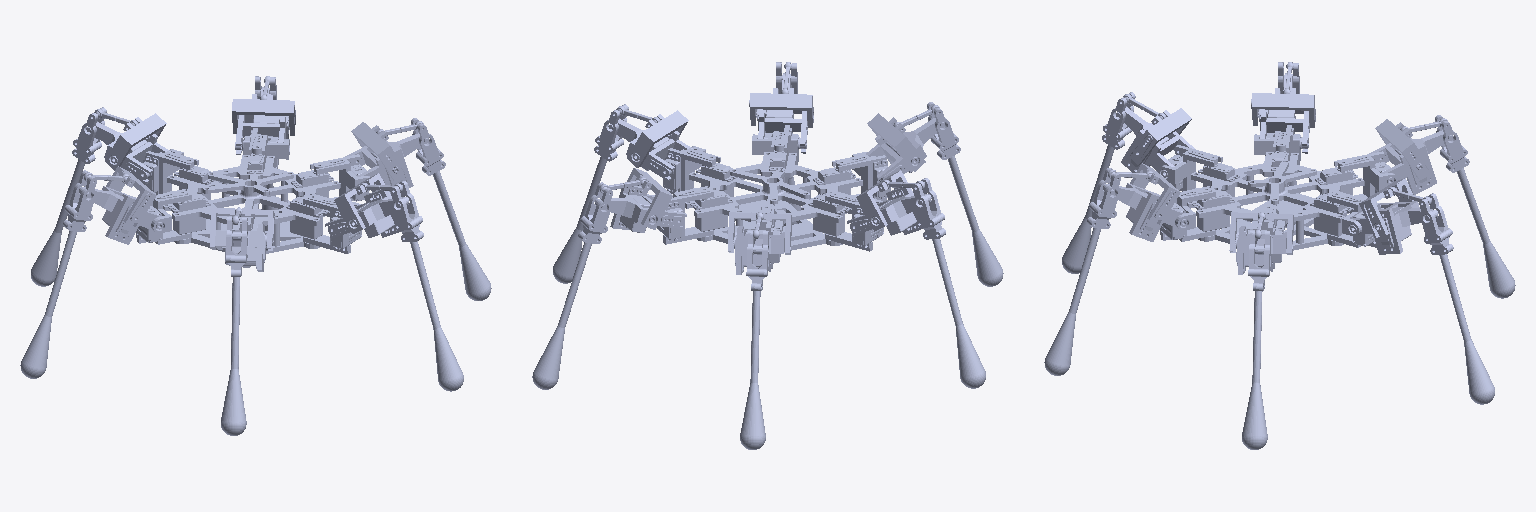
--- Facts derived from the render (not from the file) ---
3 views of the same robot in one strip: view 1: azimuth 30°, elevation 25°; view 2: azimuth 150°, elevation 25°; view 3: azimuth 270°, elevation 25° (orthographic).
Model body_description with 31 links and 30 joints (30 revolute), rooted at base_link, posed every joint at zero.
Visible links, largest first — view 1: base_link, leg6_right_leg_link2, leg4_right_leg_link2, leg5_right_leg_link2, leg1_left_leg_link2, leg3_left_leg_link2, leg6_right_leg_link1, leg4_right_leg_link1, leg3_left_leg_link1, leg1_left_leg_link1, leg4_right_leg_base_link, leg3_left_leg_base_link (+11 smaller); view 2: base_link, leg4_right_leg_link2, leg2_left_leg_link2, leg3_left_leg_link2, leg5_right_leg_link2, leg1_left_leg_link2, leg2_left_leg_link1, leg4_right_leg_link1, leg1_left_leg_link1, leg1_left_leg_base_link, leg5_right_leg_link1, leg6_right_leg_link3 (+11 smaller); view 3: base_link, leg2_left_leg_link2, leg6_right_leg_link2, leg1_left_leg_link2, leg3_left_leg_link2, leg5_right_leg_link2, leg2_left_leg_link1, leg6_right_leg_link1, leg3_left_leg_link1, leg5_right_leg_link1, leg6_right_leg_base_link, leg5_right_leg_base_link (+11 smaller).
Boxes of the visible links, x1=… form: base_link: x1=163, y1=153, x2=340, y2=253; leg6_right_leg_link2: x1=390, y1=181, x2=463, y2=391; leg4_right_leg_link2: x1=20, y1=170, x2=96, y2=378; leg5_right_leg_link2: x1=221, y1=216, x2=247, y2=435; leg1_left_leg_link2: x1=411, y1=118, x2=491, y2=300; leg3_left_leg_link2: x1=31, y1=107, x2=106, y2=286; leg6_right_leg_link1: x1=325, y1=191, x2=409, y2=238; leg4_right_leg_link1: x1=79, y1=186, x2=163, y2=244; leg3_left_leg_link1: x1=86, y1=121, x2=170, y2=183; leg1_left_leg_link1: x1=345, y1=133, x2=428, y2=193; leg4_right_leg_base_link: x1=136, y1=189, x2=191, y2=244; leg3_left_leg_base_link: x1=142, y1=149, x2=198, y2=194; base_link: x1=685, y1=150, x2=862, y2=250; leg4_right_leg_link2: x1=912, y1=178, x2=985, y2=388; leg2_left_leg_link2: x1=532, y1=182, x2=612, y2=389; leg3_left_leg_link2: x1=740, y1=230, x2=768, y2=449; leg5_right_leg_link2: x1=927, y1=102, x2=1003, y2=286; leg1_left_leg_link2: x1=553, y1=104, x2=628, y2=283; leg2_left_leg_link1: x1=595, y1=186, x2=686, y2=232; leg4_right_leg_link1: x1=847, y1=188, x2=931, y2=235; leg1_left_leg_link1: x1=608, y1=118, x2=692, y2=180; leg1_left_leg_base_link: x1=663, y1=146, x2=720, y2=193; leg5_right_leg_link1: x1=866, y1=117, x2=944, y2=180; leg6_right_leg_link3: x1=749, y1=88, x2=813, y2=127; base_link: x1=1187, y1=150, x2=1364, y2=250; leg2_left_leg_link2: x1=1419, y1=193, x2=1494, y2=404; leg6_right_leg_link2: x1=1044, y1=168, x2=1120, y2=375; leg1_left_leg_link2: x1=1242, y1=230, x2=1270, y2=449; leg3_left_leg_link2: x1=1435, y1=115, x2=1515, y2=298; leg5_right_leg_link2: x1=1062, y1=92, x2=1135, y2=273; leg2_left_leg_link1: x1=1350, y1=201, x2=1438, y2=254; leg6_right_leg_link1: x1=1103, y1=183, x2=1187, y2=241; leg3_left_leg_link1: x1=1369, y1=130, x2=1452, y2=194; leg5_right_leg_link1: x1=1116, y1=106, x2=1194, y2=177; leg6_right_leg_base_link: x1=1160, y1=186, x2=1215, y2=241; leg5_right_leg_base_link: x1=1158, y1=145, x2=1222, y2=191.
Size in the robot's own frame: 0.396 by 0.3599 by 0.1731 metres.
Meshes: 11 distinct files referenced, 31 mesh visuals loaded (11 binary STL).

URDF robot description (body_description):
<?xml version="1.0" ?>
<!-- =================================================================================== -->
<!-- |    This document was autogenerated by xacro from [local-path]/ros2_ws/src/body_description/urdf/body_description.xacro | -->
<!-- |    EDITING THIS FILE BY HAND IS NOT RECOMMENDED                                 | -->
<!-- =================================================================================== -->
<!-- This URDF was automatically created by SolidWorks to URDF Exporter! Originally created by Stephen Brawner ([email redacted]) 
     Commit Version: 1.6.0-4-g7f85cfe  Build Version: 1.6.7995.38578
     For more information, please see http://wiki.ros.org/sw_urdf_exporter -->
<robot name="body_description">
  <link name="base_link">
    <inertial>
  <!-- 质心位置：从毫米转为米（÷1000） -->
  <origin rpy="0 0 0" xyz="0 0 -0.01618"/>
  <!-- 质量：从克转为千克（÷1000） -->
  <mass value="0.42388"/>
  <!-- 惯性张量：原始单位 g·mm² 换算到 kg·m²（×1e-9） -->
  <inertia 
    ixx="0.00070777"   
    ixy="0.0000001126"
    ixz="0.00000001521"
    iyy="0.00069402"  
    iyz="-0.00000000761"
    izz="0.00111424"  
  />
</inertial>

    <visual>
      <origin rpy="0 0 0" xyz="0 0 0"/>
      <geometry>
        <mesh filename="package://body_description/meshes/base_link.STL"/>
      </geometry>
      <material name="">
        <color rgba="0.79216 0.81961 0.93333 1"/>
      </material>
    </visual>
    <collision>
      <origin rpy="0 0 0" xyz="0 0 0"/>
      <geometry>
        <mesh filename="package://body_description/meshes/base_link.STL"/>
      </geometry>
    </collision>
  </link>
  <link name="leg1_left_leg_base_link">
    <inertial>
      <origin rpy="0 0 0" xyz="0.022492 0.007129 -0.014892"/>
      <mass value="0.011294"/>
      <inertia ixx="1.7081E-06" ixy="8.3146E-08" ixz="-1.7531E-07" iyy="1.7861E-06" iyz="-1.213E-08" izz="1.1716E-06"/>
    </inertial>
    <visual>
      <origin rpy="0 0 0" xyz="0 0 0"/>
      <geometry>
        <mesh filename="package://body_description/meshes/left_leg_base_link.STL"/>
      </geometry>
      <material name="">
        <color rgba="0.79216 0.81961 0.93333 1"/>
      </material>
    </visual>
    <collision>
      <origin rpy="0 0 0" xyz="0 0 0"/>
      <geometry>
        <mesh filename="package://body_description/meshes/left_leg_base_link.STL"/>
      </geometry>
    </collision>
  </link>
  <link name="leg1_left_leg_link1">
    <inertial>
      <origin rpy="0 0 0" xyz="0.025933 0.0030528 -0.022581"/>
      <mass value="0.017021"/>
      <inertia ixx="2.0908E-06" ixy="1.3565E-08" ixz="-2.3118E-07" iyy="3.6034E-06" iyz="1.3164E-07" izz="2.9314E-06"/>
    </inertial>
    <visual>
      <origin rpy="0 0 0" xyz="0 0 0"/>
      <geometry>
        <mesh filename="package://body_description/meshes/left_leg_link1.STL"/>
      </geometry>
      <material name="">
        <color rgba="0.79216 0.81961 0.93333 1"/>
      </material>
    </visual>
    <collision>
      <origin rpy="0 0 0" xyz="0 0 0"/>
      <geometry>
        <mesh filename="package://body_description/meshes/left_leg_link1.STL"/>
      </geometry>
    </collision>
  </link>
  <joint name="leg1_left_leg_joint1" type="revolute">
    <origin rpy="-1.5708 -0.3068 0.34327" xyz="0.02198 0.027937 -0.00929"/>
    <parent link="leg1_left_leg_base_link"/>
    <child link="leg1_left_leg_link1"/>
    <axis xyz="0 0 1"/>
    <limit effort="100" lower="-3.14" upper="3.14" velocity="10"/>
  </joint>
  <link name="leg1_left_leg_link2">
    <inertial>
      <origin rpy="0 0 0" xyz="0.089594 -7.9936E-15 -0.018644"/>
      <mass value="0.014281"/>
      <inertia ixx="3.6992E-07" ixy="5.4925E-22" ixz="8.5365E-22" iyy="5.5689E-06" iyz="8.4703E-22" izz="5.6129E-06"/>
    </inertial>
    <visual>
      <origin rpy="0 0 0" xyz="0 0 0"/>
      <geometry>
        <mesh filename="package://body_description/meshes/left_leg_link2.STL"/>
      </geometry>
      <material name="">
        <color rgba="0.79216 0.81961 0.93333 1"/>
      </material>
    </visual>
    <collision>
      <origin rpy="0 0 0" xyz="0 0 0"/>
      <geometry>
        <mesh filename="package://body_description/meshes/left_leg_link2.STL"/>
      </geometry>
    </collision>
  </link>
  <joint name="leg1_left_leg_joint2" type="revolute">
    <origin rpy="0 0 1.5481" xyz="0.061 0 0"/>
    <parent link="leg1_left_leg_link1"/>
    <child link="leg1_left_leg_link2"/>
    <axis xyz="0 0 1"/>
    <limit effort="100" lower="-3.14" upper="3.14" velocity="10"/>
    <mimic joint="leg1_left_leg_joint3" multiplier="-1"/>
  </joint>
  <link name="leg1_left_leg_link3">
    <inertial>
      <origin rpy="0 0 0" xyz="0.0004307 -0.015395 -0.01826"/>
      <mass value="0.0042639"/>
      <inertia ixx="1.5353E-06" ixy="8.5323E-09" ixz="8.9451E-10" iyy="1.3235E-06" iyz="-7.4296E-08" izz="3.5073E-07"/>
    </inertial>
    <visual>
      <origin rpy="0 0 0" xyz="0 0 0"/>
      <geometry>
        <mesh filename="package://body_description/meshes/left_leg_link3.STL"/>
      </geometry>
      <material name="">
        <color rgba="0.79216 0.81961 0.93333 1"/>
      </material>
    </visual>
    <collision>
      <origin rpy="0 0 0" xyz="0 0 0"/>
      <geometry>
        <mesh filename="package://body_description/meshes/left_leg_link3.STL"/>
      </geometry>
    </collision>
  </link>
  <joint name="leg1_left_leg_joint3" type="revolute">
    <origin rpy="0 0 -0.21172" xyz="0.0255 0 0"/>
    <parent link="leg1_left_leg_link1"/>
    <child link="leg1_left_leg_link3"/>
    <axis xyz="0 0 -1"/>
    <limit effort="100" lower="-3.14" upper="3.14" velocity="10"/>
  </joint>
  <link name="leg1_left_leg_link4">
    <inertial>
      <origin rpy="0 0 0" xyz="0.016434 1.8077E-12 -0.019911"/>
      <mass value="0.00053747"/>
      <inertia ixx="1.8438E-09" ixy="4.6176E-20" ixz="-8.7449E-13" iyy="4.7249E-09" iyz="-1.8552E-20" izz="5.3635E-09"/>
    </inertial>
    <visual>
      <origin rpy="0 0 0" xyz="0 0 0"/>
      <geometry>
        <mesh filename="package://body_description/meshes/left_leg_link4.STL"/>
      </geometry>
      <material name="">
        <color rgba="0.79216 0.81961 0.93333 1"/>
      </material>
    </visual>
    <collision>
      <origin rpy="0 0 0" xyz="0 0 0"/>
      <geometry>
        <mesh filename="package://body_description/meshes/left_leg_link4.STL"/>
      </geometry>
    </collision>
  </link>
  <joint name="leg1_left_leg_joint4" type="revolute">
    <origin rpy="0 0.0092257 0.50332" xyz="0.0084934 -0.020001 0"/>
    <parent link="leg1_left_leg_link3"/>
    <child link="leg1_left_leg_link4"/>
    <axis xyz="0 0 -1"/>
    <limit effort="100" lower="-3.14" upper="3.14" velocity="10"/>
    <mimic joint="leg1_left_leg_joint3" multiplier="-1"/>
  </joint>
  <joint name="leg1_joint" type="revolute">
    <origin rpy="0 0 -0.423478" xyz="0.057411 -0.004797 0"/>
    <parent link="base_link"/>
    <child link="leg1_left_leg_base_link"/>
    <axis xyz="0 0 1"/>
    <limit effort="100" lower="-3.14" upper="3.14" velocity="10"/>
  </joint>
  <link name="leg2_left_leg_base_link">
    <inertial>
      <origin rpy="0 0 0" xyz="0.022492 0.007129 -0.014892"/>
      <mass value="0.011294"/>
      <inertia ixx="1.7081E-06" ixy="8.3146E-08" ixz="-1.7531E-07" iyy="1.7861E-06" iyz="-1.213E-08" izz="1.1716E-06"/>
    </inertial>
    <visual>
      <origin rpy="0 0 0" xyz="0 0 0"/>
      <geometry>
        <mesh filename="package://body_description/meshes/left_leg_base_link.STL"/>
      </geometry>
      <material name="">
        <color rgba="0.79216 0.81961 0.93333 1"/>
      </material>
    </visual>
    <collision>
      <origin rpy="0 0 0" xyz="0 0 0"/>
      <geometry>
        <mesh filename="package://body_description/meshes/left_leg_base_link.STL"/>
      </geometry>
    </collision>
  </link>
  <link name="leg2_left_leg_link1">
    <inertial>
      <origin rpy="0 0 0" xyz="0.025933 0.0030528 -0.022581"/>
      <mass value="0.017021"/>
      <inertia ixx="2.0908E-06" ixy="1.3565E-08" ixz="-2.3118E-07" iyy="3.6034E-06" iyz="1.3164E-07" izz="2.9314E-06"/>
    </inertial>
    <visual>
      <origin rpy="0 0 0" xyz="0 0 0"/>
      <geometry>
        <mesh filename="package://body_description/meshes/left_leg_link1.STL"/>
      </geometry>
      <material name="">
        <color rgba="0.79216 0.81961 0.93333 1"/>
      </material>
    </visual>
    <collision>
      <origin rpy="0 0 0" xyz="0 0 0"/>
      <geometry>
        <mesh filename="package://body_description/meshes/left_leg_link1.STL"/>
      </geometry>
    </collision>
  </link>
  <joint name="leg2_left_leg_joint1" type="revolute">
    <origin rpy="-1.5708 -0.3068 0.34327" xyz="0.02198 0.027937 -0.00929"/>
    <parent link="leg2_left_leg_base_link"/>
    <child link="leg2_left_leg_link1"/>
    <axis xyz="0 0 1"/>
    <limit effort="100" lower="-3.14" upper="3.14" velocity="10"/>
  </joint>
  <link name="leg2_left_leg_link2">
    <inertial>
      <origin rpy="0 0 0" xyz="0.089594 -7.9936E-15 -0.018644"/>
      <mass value="0.014281"/>
      <inertia ixx="3.6992E-07" ixy="5.4925E-22" ixz="8.5365E-22" iyy="5.5689E-06" iyz="8.4703E-22" izz="5.6129E-06"/>
    </inertial>
    <visual>
      <origin rpy="0 0 0" xyz="0 0 0"/>
      <geometry>
        <mesh filename="package://body_description/meshes/left_leg_link2.STL"/>
      </geometry>
      <material name="">
        <color rgba="0.79216 0.81961 0.93333 1"/>
      </material>
    </visual>
    <collision>
      <origin rpy="0 0 0" xyz="0 0 0"/>
      <geometry>
        <mesh filename="package://body_description/meshes/left_leg_link2.STL"/>
      </geometry>
    </collision>
  </link>
  <joint name="leg2_left_leg_joint2" type="revolute">
    <origin rpy="0 0 1.5481" xyz="0.061 0 0"/>
    <parent link="leg2_left_leg_link1"/>
    <child link="leg2_left_leg_link2"/>
    <axis xyz="0 0 1"/>
    <limit effort="100" lower="-3.14" upper="3.14" velocity="10"/>
    <mimic joint="leg2_left_leg_joint3" multiplier="-1"/>
  </joint>
  <link name="leg2_left_leg_link3">
    <inertial>
      <origin rpy="0 0 0" xyz="0.0004307 -0.015395 -0.01826"/>
      <mass value="0.0042639"/>
      <inertia ixx="1.5353E-06" ixy="8.5323E-09" ixz="8.9451E-10" iyy="1.3235E-06" iyz="-7.4296E-08" izz="3.5073E-07"/>
    </inertial>
    <visual>
      <origin rpy="0 0 0" xyz="0 0 0"/>
      <geometry>
        <mesh filename="package://body_description/meshes/left_leg_link3.STL"/>
      </geometry>
      <material name="">
        <color rgba="0.79216 0.81961 0.93333 1"/>
      </material>
    </visual>
    <collision>
      <origin rpy="0 0 0" xyz="0 0 0"/>
      <geometry>
        <mesh filename="package://body_description/meshes/left_leg_link3.STL"/>
      </geometry>
    </collision>
  </link>
  <joint name="leg2_left_leg_joint3" type="revolute">
    <origin rpy="0 0 -0.21172" xyz="0.0255 0 0"/>
    <parent link="leg2_left_leg_link1"/>
    <child link="leg2_left_leg_link3"/>
    <axis xyz="0 0 -1"/>
    <limit effort="100" lower="-3.14" upper="3.14" velocity="10"/>
  </joint>
  <link name="leg2_left_leg_link4">
    <inertial>
      <origin rpy="0 0 0" xyz="0.016434 1.8077E-12 -0.019911"/>
      <mass value="0.00053747"/>
      <inertia ixx="1.8438E-09" ixy="4.6176E-20" ixz="-8.7449E-13" iyy="4.7249E-09" iyz="-1.8552E-20" izz="5.3635E-09"/>
    </inertial>
    <visual>
      <origin rpy="0 0 0" xyz="0 0 0"/>
      <geometry>
        <mesh filename="package://body_description/meshes/left_leg_link4.STL"/>
      </geometry>
      <material name="">
        <color rgba="0.79216 0.81961 0.93333 1"/>
      </material>
    </visual>
    <collision>
      <origin rpy="0 0 0" xyz="0 0 0"/>
      <geometry>
        <mesh filename="package://body_description/meshes/left_leg_link4.STL"/>
      </geometry>
    </collision>
  </link>
  <joint name="leg2_left_leg_joint4" type="revolute">
    <origin rpy="0 0.0092257 0.50332" xyz="0.0084934 -0.020001 0"/>
    <parent link="leg2_left_leg_link3"/>
    <child link="leg2_left_leg_link4"/>
    <axis xyz="0 0 -1"/>
    <limit effort="100" lower="-3.14" upper="3.14" velocity="10"/>
    <mimic joint="leg2_left_leg_joint3" multiplier="-1"/>
  </joint>
  <joint name="leg2_joint" type="revolute">
    <origin rpy="0 0 0.62372" xyz="0.03286 0.047321 0"/>
    <parent link="base_link"/>
    <child link="leg2_left_leg_base_link"/>
    <axis xyz="0 0 1"/>
    <limit effort="100" lower="-3.14" upper="3.14" velocity="10"/>
  </joint>
  <link name="leg3_left_leg_base_link">
    <inertial>
      <origin rpy="0 0 0" xyz="0.022492 0.007129 -0.014892"/>
      <mass value="0.011294"/>
      <inertia ixx="1.7081E-06" ixy="8.3146E-08" ixz="-1.7531E-07" iyy="1.7861E-06" iyz="-1.213E-08" izz="1.1716E-06"/>
    </inertial>
    <visual>
      <origin rpy="0 0 0" xyz="0 0 0"/>
      <geometry>
        <mesh filename="package://body_description/meshes/left_leg_base_link.STL"/>
      </geometry>
      <material name="">
        <color rgba="0.79216 0.81961 0.93333 1"/>
      </material>
    </visual>
    <collision>
      <origin rpy="0 0 0" xyz="0 0 0"/>
      <geometry>
        <mesh filename="package://body_description/meshes/left_leg_base_link.STL"/>
      </geometry>
    </collision>
  </link>
  <link name="leg3_left_leg_link1">
    <inertial>
      <origin rpy="0 0 0" xyz="0.025933 0.0030528 -0.022581"/>
      <mass value="0.017021"/>
      <inertia ixx="2.0908E-06" ixy="1.3565E-08" ixz="-2.3118E-07" iyy="3.6034E-06" iyz="1.3164E-07" izz="2.9314E-06"/>
    </inertial>
    <visual>
      <origin rpy="0 0 0" xyz="0 0 0"/>
      <geometry>
        <mesh filename="package://body_description/meshes/left_leg_link1.STL"/>
      </geometry>
      <material name="">
        <color rgba="0.79216 0.81961 0.93333 1"/>
      </material>
    </visual>
    <collision>
      <origin rpy="0 0 0" xyz="0 0 0"/>
      <geometry>
        <mesh filename="package://body_description/meshes/left_leg_link1.STL"/>
      </geometry>
    </collision>
  </link>
  <joint name="leg3_left_leg_joint1" type="revolute">
    <origin rpy="-1.5708 -0.3068 0.34327" xyz="0.02198 0.027937 -0.00929"/>
    <parent link="leg3_left_leg_base_link"/>
    <child link="leg3_left_leg_link1"/>
    <axis xyz="0 0 1"/>
    <limit effort="100" lower="-3.14" upper="3.14" velocity="10"/>
  </joint>
  <link name="leg3_left_leg_link2">
    <inertial>
      <origin rpy="0 0 0" xyz="0.089594 -7.9936E-15 -0.018644"/>
      <mass value="0.014281"/>
      <inertia ixx="3.6992E-07" ixy="5.4925E-22" ixz="8.5365E-22" iyy="5.5689E-06" iyz="8.4703E-22" izz="5.6129E-06"/>
    </inertial>
    <visual>
      <origin rpy="0 0 0" xyz="0 0 0"/>
      <geometry>
        <mesh filename="package://body_description/meshes/left_leg_link2.STL"/>
      </geometry>
      <material name="">
        <color rgba="0.79216 0.81961 0.93333 1"/>
      </material>
    </visual>
    <collision>
      <origin rpy="0 0 0" xyz="0 0 0"/>
      <geometry>
        <mesh filename="package://body_description/meshes/left_leg_link2.STL"/>
      </geometry>
    </collision>
  </link>
  <joint name="leg3_left_leg_joint2" type="revolute">
    <origin rpy="0 0 1.5481" xyz="0.061 0 0"/>
    <parent link="leg3_left_leg_link1"/>
    <child link="leg3_left_leg_link2"/>
    <axis xyz="0 0 1"/>
    <limit effort="100" lower="-3.14" upper="3.14" velocity="10"/>
    <mimic joint="leg3_left_leg_joint3" multiplier="-1"/>
  </joint>
  <link name="leg3_left_leg_link3">
    <inertial>
      <origin rpy="0 0 0" xyz="0.0004307 -0.015395 -0.01826"/>
      <mass value="0.0042639"/>
      <inertia ixx="1.5353E-06" ixy="8.5323E-09" ixz="8.9451E-10" iyy="1.3235E-06" iyz="-7.4296E-08" izz="3.5073E-07"/>
    </inertial>
    <visual>
      <origin rpy="0 0 0" xyz="0 0 0"/>
      <geometry>
        <mesh filename="package://body_description/meshes/left_leg_link3.STL"/>
      </geometry>
      <material name="">
        <color rgba="0.79216 0.81961 0.93333 1"/>
      </material>
    </visual>
    <collision>
      <origin rpy="0 0 0" xyz="0 0 0"/>
      <geometry>
        <mesh filename="package://body_description/meshes/left_leg_link3.STL"/>
      </geometry>
    </collision>
  </link>
  <joint name="leg3_left_leg_joint3" type="revolute">
    <origin rpy="0 0 -0.21172" xyz="0.0255 0 0"/>
    <parent link="leg3_left_leg_link1"/>
    <child link="leg3_left_leg_link3"/>
    <axis xyz="0 0 -1"/>
    <limit effort="100" lower="-3.14" upper="3.14" velocity="10"/>
  </joint>
  <link name="leg3_left_leg_link4">
    <inertial>
      <origin rpy="0 0 0" xyz="0.016434 1.8077E-12 -0.019911"/>
      <mass value="0.00053747"/>
      <inertia ixx="1.8438E-09" ixy="4.6176E-20" ixz="-8.7449E-13" iyy="4.7249E-09" iyz="-1.8552E-20" izz="5.3635E-09"/>
    </inertial>
    <visual>
      <origin rpy="0 0 0" xyz="0 0 0"/>
      <geometry>
        <mesh filename="package://body_description/meshes/left_leg_link4.STL"/>
      </geometry>
      <material name="">
        <color rgba="0.79216 0.81961 0.93333 1"/>
      </material>
    </visual>
    <collision>
      <origin rpy="0 0 0" xyz="0 0 0"/>
      <geometry>
        <mesh filename="package://body_description/meshes/left_leg_link4.STL"/>
      </geometry>
    </collision>
  </link>
  <joint name="leg3_left_leg_joint4" type="revolute">
    <origin rpy="0 0.0092257 0.50332" xyz="0.0084934 -0.020001 0"/>
    <parent link="leg3_left_leg_link3"/>
    <child link="leg3_left_leg_link4"/>
    <axis xyz="0 0 -1"/>
    <limit effort="100" lower="-3.14" upper="3.14" velocity="10"/>
    <mimic joint="leg3_left_leg_joint3" multiplier="-1"/>
  </joint>
  <joint name="leg3_joint" type="revolute">
    <origin rpy="0 0 1.6709" xyz="-0.024551 0.052118 0"/>
    <parent link="base_link"/>
    <child link="leg3_left_leg_base_link"/>
    <axis xyz="0 0 1"/>
    <limit effort="100" lower="-3.14" upper="3.14" velocity="10"/>
  </joint>
  <link name="leg4_right_leg_base_link">
    <inertial>
      <origin rpy="0 0 0" xyz="0.021397 0.0099443 -0.014892"/>
      <mass value="0.011294"/>
      <inertia ixx="1.8266E-06" ixy="-4.6095E-08" ixz="-1.3742E-07" iyy="1.6677E-06" iyz="-1.0952E-07" izz="1.1716E-06"/>
    </inertial>
    <visual>
      <origin rpy="0 0 0" xyz="0 0 0"/>
      <geometry>
        <mesh filename="package://body_description/meshes/right_leg_base_link.STL"/>
      </geometry>
      <material name="">
        <color rgba="0.79216 0.81961 0.93333 1"/>
      </material>
    </visual>
    <collision>
      <origin rpy="0 0 0" xyz="0 0 0"/>
      <geometry>
        <mesh filename="package://body_description/meshes/right_leg_base_link.STL"/>
      </geometry>
    </collision>
  </link>
  <link name="leg4_right_leg_link1">
    <inertial>
      <origin rpy="0 0 0" xyz="0.025933 -0.0030528 -0.022581"/>
      <mass value="0.017021"/>
      <inertia ixx="2.0908E-06" ixy="-1.3565E-08" ixz="-2.3118E-07" iyy="3.6034E-06" iyz="-1.3164E-07" izz="2.9314E-06"/>
    </inertial>
    <visual>
      <origin rpy="0 0 0" xyz="0 0 0"/>
      <geometry>
        <mesh filename="package://body_description/meshes/right_leg_link1.STL"/>
      </geometry>
      <material name="">
        <color rgba="0.79216 0.81961 0.93333 1"/>
      </material>
    </visual>
    <collision>
      <origin rpy="0 0 0" xyz="0 0 0"/>
      <geometry>
        <mesh filename="package://body_description/meshes/right_leg_link1.STL"/>
      </geometry>
    </collision>
  </link>
  <joint name="leg4_right_leg_joint1" type="revolute">
    <origin rpy="1.5708 -0.51606 0.39873" xyz="0.035081 -0.0057403 -0.00929"/>
    <parent link="leg4_right_leg_base_link"/>
    <child link="leg4_right_leg_link1"/>
    <axis xyz="0 0 1"/>
    <limit effort="100" lower="-3.14" upper="3.14" velocity="10"/>
  </joint>
  <link name="leg4_right_leg_link2">
    <inertial>
      <origin rpy="0 0 0" xyz="0.089594 -6.8001E-15 -0.018644"/>
      <mass value="0.014281"/>
      <inertia ixx="3.6992E-07" ixy="1.0965E-19" ixz="2.2466E-21" iyy="5.5689E-06" iyz="0" izz="5.6129E-06"/>
    </inertial>
    <visual>
      <origin rpy="0 0 0" xyz="0 0 0"/>
      <geometry>
        <mesh filename="package://body_description/meshes/right_leg_link2.STL"/>
      </geometry>
      <material name="">
        <color rgba="0.79216 0.81961 0.93333 1"/>
      </material>
    </visual>
    <collision>
      <origin rpy="0 0 0" xyz="0 0 0"/>
      <geometry>
        <mesh filename="package://body_description/meshes/right_leg_link2.STL"/>
      </geometry>
    </collision>
  </link>
  <joint name="leg4_right_leg_joint2" type="revolute">
    <origin rpy="0 0 -1.7773" xyz="0.061 0 0"/>
    <parent link="leg4_right_leg_link1"/>
    <child link="leg4_right_leg_link2"/>
    <axis xyz="0 0 1"/>
    <limit effort="100" lower="-3.14" upper="3.14" velocity="10"/>
    <mimic joint="leg4_right_leg_joint3" multiplier="-1"/>
  </joint>
  <link name="leg4_right_leg_link3">
    <inertial>
      <origin rpy="0 0 0" xyz="0.00040437 0.014672 -0.020116"/>
      <mass value="0.0046109"/>
      <inertia ixx="1.552E-06" ixy="-8.5323E-09" ixz="8.9451E-10" iyy="1.3255E-06" iyz="7.5364E-08" izz="3.6852E-07"/>
    </inertial>
    <visual>
      <origin rpy="0 0 0" xyz="0 0 0"/>
      <geometry>
        <mesh filename="package://body_description/meshes/right_leg_link3.STL"/>
      </geometry>
      <material name="">
        <color rgba="0.79216 0.81961 0.93333 1"/>
      </material>
    </visual>
    <collision>
      <origin rpy="0 0 0" xyz="0 0 0"/>
      <geometry>
        <mesh filename="package://body_description/meshes/right_leg_link3.STL"/>
      </geometry>
    </collision>
  </link>
  <joint name="leg4_right_leg_joint3" type="revolute">
    <origin rpy="0 0 0.088197" xyz="0.025507 0 0"/>
    <parent link="leg4_right_leg_link1"/>
    <child link="leg4_right_leg_link3"/>
    <axis xyz="0 0 -1"/>
    <limit effort="100" lower="-3.14" upper="3.14" velocity="10"/>
  </joint>
  <link name="leg4_right_leg_link4">
    <inertial>
      <origin rpy="0 0 0" xyz="0.015829 0.00093361 -0.0068248"/>
      <mass value="0.00053747"/>
      <inertia ixx="1.8438E-09" ixy="-4.6086E-19" ixz="8.7449E-13" iyy="4.7249E-09" iyz="-3.9428E-20" izz="5.3635E-09"/>
    </inertial>
    <visual>
      <origin rpy="0 0 0" xyz="0 0 0"/>
      <geometry>
        <mesh filename="package://body_description/meshes/right_leg_link4.STL"/>
      </geometry>
      <material name="">
        <color rgba="0.79216 0.81961 0.93333 1"/>
      </material>
    </visual>
    <collision>
      <origin rpy="0 0 0" xyz="0 0 0"/>
      <geometry>
        <mesh filename="package://body_description/meshes/right_leg_link4.STL"/>
      </geometry>
    </collision>
  </link>
  <joint name="leg4_right_leg_joint4" type="revolute">
    <origin rpy="0 -0.0092257 -0.36643" xyz="0.0085 0.019 -0.01074"/>
    <parent link="leg4_right_leg_link3"/>
    <child link="leg4_right_leg_link4"/>
    <axis xyz="-0.0092256 0 -0.99996"/>
    <limit effort="100" lower="-3.14" upper="3.14" velocity="10"/>
    <mimic joint="leg4_right_leg_joint3" multiplier="-1"/>
  </joint>
  <joint name="leg4_joint" type="revolute">
    <origin rpy="0 0 2.6781" xyz="-0.057411 0.004797 0"/>
    <parent link="base_link"/>
    <child link="leg4_right_leg_base_link"/>
    <axis xyz="0 0 1"/>
    <limit effort="100" lower="-3.14" upper="3.14" velocity="10"/>
  </joint>
  <link name="leg5_right_leg_base_link">
    <inertial>
      <origin rpy="0 0 0" xyz="0.021397 0.0099443 -0.014892"/>
      <mass value="0.011294"/>
      <inertia ixx="1.8266E-06" ixy="-4.6095E-08" ixz="-1.3742E-07" iyy="1.6677E-06" iyz="-1.0952E-07" izz="1.1716E-06"/>
    </inertial>
    <visual>
      <origin rpy="0 0 0" xyz="0 0 0"/>
      <geometry>
        <mesh filename="package://body_description/meshes/right_leg_base_link.STL"/>
      </geometry>
      <material name="">
        <color rgba="0.79216 0.81961 0.93333 1"/>
      </material>
    </visual>
    <collision>
      <origin rpy="0 0 0" xyz="0 0 0"/>
      <geometry>
        <mesh filename="package://body_description/meshes/right_leg_base_link.STL"/>
      </geometry>
    </collision>
  </link>
  <link name="leg5_right_leg_link1">
    <inertial>
      <origin rpy="0 0 0" xyz="0.025933 -0.0030528 -0.022581"/>
      <mass value="0.017021"/>
      <inertia ixx="2.0908E-06" ixy="-1.3565E-08" ixz="-2.3118E-07" iyy="3.6034E-06" iyz="-1.3164E-07" izz="2.9314E-06"/>
    </inertial>
    <visual>
      <origin rpy="0 0 0" xyz="0 0 0"/>
      <geometry>
        <mesh filename="package://body_description/meshes/right_leg_link1.STL"/>
      </geometry>
      <material name="">
        <color rgba="0.79216 0.81961 0.93333 1"/>
      </material>
    </visual>
    <collision>
      <origin rpy="0 0 0" xyz="0 0 0"/>
      <geometry>
        <mesh filename="package://body_description/meshes/right_leg_link1.STL"/>
      </geometry>
    </collision>
  </link>
  <joint name="leg5_right_leg_joint1" type="revolute">
    <origin rpy="1.5708 -0.51606 0.39873" xyz="0.035081 -0.0057403 -0.00929"/>
    <parent link="leg5_right_leg_base_link"/>
    <child link="leg5_right_leg_link1"/>
    <axis xyz="0 0 1"/>
    <limit effort="100" lower="-3.14" upper="3.14" velocity="10"/>
  </joint>
  <link name="leg5_right_leg_link2">
    <inertial>
      <origin rpy="0 0 0" xyz="0.089594 -6.8001E-15 -0.018644"/>
      <mass value="0.014281"/>
      <inertia ixx="3.6992E-07" ixy="1.0965E-19" ixz="2.2466E-21" iyy="5.5689E-06" iyz="0" izz="5.6129E-06"/>
    </inertial>
    <visual>
      <origin rpy="0 0 0" xyz="0 0 0"/>
      <geometry>
        <mesh filename="package://body_description/meshes/right_leg_link2.STL"/>
      </geometry>
      <material name="">
        <color rgba="0.79216 0.81961 0.93333 1"/>
      </material>
    </visual>
    <collision>
      <origin rpy="0 0 0" xyz="0 0 0"/>
      <geometry>
        <mesh filename="package://body_description/meshes/right_leg_link2.STL"/>
      </geometry>
    </collision>
  </link>
  <joint name="leg5_right_leg_joint2" type="revolute">
    <origin rpy="0 0 -1.7773" xyz="0.061 0 0"/>
    <parent link="leg5_right_leg_link1"/>
    <child link="leg5_right_leg_link2"/>
    <axis xyz="0 0 1"/>
    <limit effort="100" lower="-3.14" upper="3.14" velocity="10"/>
    <mimic joint="leg5_right_leg_joint3" multiplier="-1"/>
  </joint>
  <link name="leg5_right_leg_link3">
    <inertial>
      <origin rpy="0 0 0" xyz="0.00040437 0.014672 -0.020116"/>
      <mass value="0.0046109"/>
      <inertia ixx="1.552E-06" ixy="-8.5323E-09" ixz="8.9451E-10" iyy="1.3255E-06" iyz="7.5364E-08" izz="3.6852E-07"/>
    </inertial>
    <visual>
      <origin rpy="0 0 0" xyz="0 0 0"/>
      <geometry>
        <mesh filename="package://body_description/meshes/right_leg_link3.STL"/>
      </geometry>
      <material name="">
        <color rgba="0.79216 0.81961 0.93333 1"/>
      </material>
    </visual>
    <collision>
      <origin rpy="0 0 0" xyz="0 0 0"/>
      <geometry>
        <mesh filename="package://body_description/meshes/right_leg_link3.STL"/>
      </geometry>
    </collision>
  </link>
  <joint name="leg5_right_leg_joint3" type="revolute">
    <origin rpy="0 0 0.088197" xyz="0.025507 0 0"/>
    <parent link="leg5_right_leg_link1"/>
    <child link="leg5_right_leg_link3"/>
    <axis xyz="0 0 -1"/>
    <limit effort="100" lower="-3.14" upper="3.14" velocity="10"/>
  </joint>
  <link name="leg5_right_leg_link4">
    <inertial>
      <origin rpy="0 0 0" xyz="0.015829 0.00093361 -0.0068248"/>
      <mass value="0.00053747"/>
      <inertia ixx="1.8438E-09" ixy="-4.6086E-19" ixz="8.7449E-13" iyy="4.7249E-09" iyz="-3.9428E-20" izz="5.3635E-09"/>
    </inertial>
    <visual>
      <origin rpy="0 0 0" xyz="0 0 0"/>
      <geometry>
        <mesh filename="package://body_description/meshes/right_leg_link4.STL"/>
      </geometry>
      <material name="">
        <color rgba="0.79216 0.81961 0.93333 1"/>
      </material>
    </visual>
    <collision>
      <origin rpy="0 0 0" xyz="0 0 0"/>
      <geometry>
        <mesh filename="package://body_description/meshes/right_leg_link4.STL"/>
      </geometry>
    </collision>
  </link>
  <joint name="leg5_right_leg_joint4" type="revolute">
    <origin rpy="0 -0.0092257 -0.36643" xyz="0.0085 0.019 -0.01074"/>
    <parent link="leg5_right_leg_link3"/>
    <child link="leg5_right_leg_link4"/>
    <axis xyz="-0.0092256 0 -0.99996"/>
    <limit effort="100" lower="-3.14" upper="3.14" velocity="10"/>
    <mimic joint="leg5_right_leg_joint3" multiplier="-1"/>
  </joint>
  <joint name="leg5_joint" type="revolute">
    <origin rpy="0 0 -2.5579" xyz="-0.03286 -0.047321 0"/>
    <parent link="base_link"/>
    <child link="leg5_right_leg_base_link"/>
    <axis xyz="0 0 1"/>
    <limit effort="100" lower="-3.14" upper="3.14" velocity="10"/>
  </joint>
  <link name="leg6_right_leg_base_link">
    <inertial>
      <origin rpy="0 0 0" xyz="0.021397 0.0099443 -0.014892"/>
      <mass value="0.011294"/>
      <inertia ixx="1.8266E-06" ixy="-4.6095E-08" ixz="-1.3742E-07" iyy="1.6677E-06" iyz="-1.0952E-07" izz="1.1716E-06"/>
    </inertial>
    <visual>
      <origin rpy="0 0 0" xyz="0 0 0"/>
      <geometry>
        <mesh filename="package://body_description/meshes/right_leg_base_link.STL"/>
      </geometry>
      <material name="">
        <color rgba="0.79216 0.81961 0.93333 1"/>
      </material>
    </visual>
    <collision>
      <origin rpy="0 0 0" xyz="0 0 0"/>
      <geometry>
        <mesh filename="package://body_description/meshes/right_leg_base_link.STL"/>
      </geometry>
    </collision>
  </link>
  <link name="leg6_right_leg_link1">
    <inertial>
      <origin rpy="0 0 0" xyz="0.025933 -0.0030528 -0.022581"/>
      <mass value="0.017021"/>
      <inertia ixx="2.0908E-06" ixy="-1.3565E-08" ixz="-2.3118E-07" iyy="3.6034E-06" iyz="-1.3164E-07" izz="2.9314E-06"/>
    </inertial>
    <visual>
      <origin rpy="0 0 0" xyz="0 0 0"/>
      <geometry>
        <mesh filename="package://body_description/meshes/right_leg_link1.STL"/>
      </geometry>
      <material name="">
        <color rgba="0.79216 0.81961 0.93333 1"/>
      </material>
    </visual>
    <collision>
      <origin rpy="0 0 0" xyz="0 0 0"/>
      <geometry>
        <mesh filename="package://body_description/meshes/right_leg_link1.STL"/>
      </geometry>
    </collision>
  </link>
  <joint name="leg6_right_leg_joint1" type="revolute">
    <origin rpy="1.5708 -0.51606 0.39873" xyz="0.035081 -0.0057403 -0.00929"/>
    <parent link="leg6_right_leg_base_link"/>
    <child link="leg6_right_leg_link1"/>
    <axis xyz="0 0 1"/>
    <limit effort="100" lower="-3.14" upper="3.14" velocity="10"/>
  </joint>
  <link name="leg6_right_leg_link2">
    <inertial>
      <origin rpy="0 0 0" xyz="0.089594 -6.8001E-15 -0.018644"/>
      <mass value="0.014281"/>
      <inertia ixx="3.6992E-07" ixy="1.0965E-19" ixz="2.2466E-21" iyy="5.5689E-06" iyz="0" izz="5.6129E-06"/>
    </inertial>
    <visual>
      <origin rpy="0 0 0" xyz="0 0 0"/>
      <geometry>
        <mesh filename="package://body_description/meshes/right_leg_link2.STL"/>
      </geometry>
      <material name="">
        <color rgba="0.79216 0.81961 0.93333 1"/>
      </material>
    </visual>
    <collision>
      <origin rpy="0 0 0" xyz="0 0 0"/>
      <geometry>
        <mesh filename="package://body_description/meshes/right_leg_link2.STL"/>
      </geometry>
    </collision>
  </link>
  <joint name="leg6_right_leg_joint2" type="revolute">
    <origin rpy="0 0 -1.7773" xyz="0.061 0 0"/>
    <parent link="leg6_right_leg_link1"/>
    <child link="leg6_right_leg_link2"/>
    <axis xyz="0 0 1"/>
    <limit effort="100" lower="-3.14" upper="3.14" velocity="10"/>
    <mimic joint="leg6_right_leg_joint3" multiplier="-1"/>
  </joint>
  <link name="leg6_right_leg_link3">
    <inertial>
      <origin rpy="0 0 0" xyz="0.00040437 0.014672 -0.020116"/>
      <mass value="0.0046109"/>
      <inertia ixx="1.552E-06" ixy="-8.5323E-09" ixz="8.9451E-10" iyy="1.3255E-06" iyz="7.5364E-08" izz="3.6852E-07"/>
    </inertial>
    <visual>
      <origin rpy="0 0 0" xyz="0 0 0"/>
      <geometry>
        <mesh filename="package://body_description/meshes/right_leg_link3.STL"/>
      </geometry>
      <material name="">
        <color rgba="0.79216 0.81961 0.93333 1"/>
      </material>
    </visual>
    <collision>
      <origin rpy="0 0 0" xyz="0 0 0"/>
      <geometry>
        <mesh filename="package://body_description/meshes/right_leg_link3.STL"/>
      </geometry>
    </collision>
  </link>
  <joint name="leg6_right_leg_joint3" type="revolute">
    <origin rpy="0 0 0.088197" xyz="0.025507 0 0"/>
    <parent link="leg6_right_leg_link1"/>
    <child link="leg6_right_leg_link3"/>
    <axis xyz="0 0 -1"/>
    <limit effort="100" lower="-3.14" upper="3.14" velocity="10"/>
  </joint>
  <link name="leg6_right_leg_link4">
    <inertial>
      <origin rpy="0 0 0" xyz="0.015829 0.00093361 -0.0068248"/>
      <mass value="0.00053747"/>
      <inertia ixx="1.8438E-09" ixy="-4.6086E-19" ixz="8.7449E-13" iyy="4.7249E-09" iyz="-3.9428E-20" izz="5.3635E-09"/>
    </inertial>
    <visual>
      <origin rpy="0 0 0" xyz="0 0 0"/>
      <geometry>
        <mesh filename="package://body_description/meshes/right_leg_link4.STL"/>
      </geometry>
      <material name="">
        <color rgba="0.79216 0.81961 0.93333 1"/>
      </material>
    </visual>
    <collision>
      <origin rpy="0 0 0" xyz="0 0 0"/>
      <geometry>
        <mesh filename="package://body_description/meshes/right_leg_link4.STL"/>
      </geometry>
    </collision>
  </link>
  <joint name="leg6_right_leg_joint4" type="revolute">
    <origin rpy="0 -0.0092257 -0.36643" xyz="0.0085 0.019 -0.01074"/>
    <parent link="leg6_right_leg_link3"/>
    <child link="leg6_right_leg_link4"/>
    <axis xyz="-0.0092256 0 -0.99996"/>
    <limit effort="100" lower="-3.14" upper="3.14" velocity="10"/>
    <mimic joint="leg6_right_leg_joint3" multiplier="-1"/>
  </joint>
  <joint name="leg6_joint" type="revolute">
    <origin rpy="0 0 -1.5107" xyz="0.024551 -0.052118 0"/>
    <parent link="base_link"/>
    <child link="leg6_right_leg_base_link"/>
    <axis xyz="0 0 1"/>
    <limit effort="100" lower="-3.14" upper="3.14" velocity="10"/>
  </joint>
</robot>
